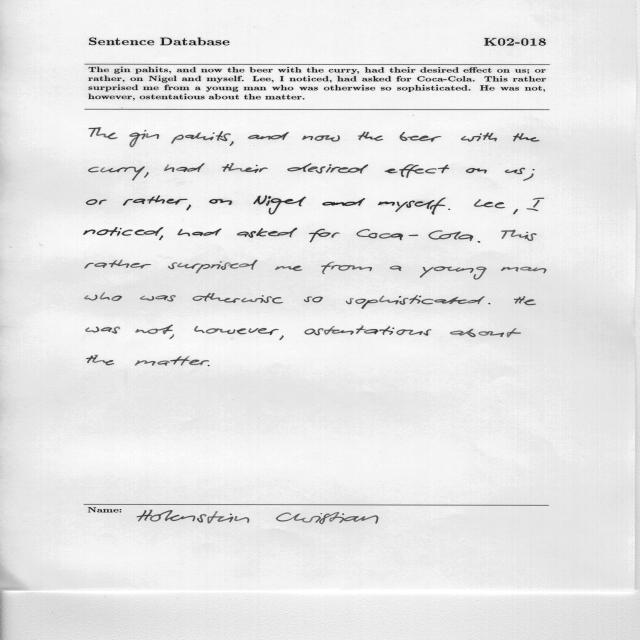word: (346, 295, 485, 309), (304, 325, 432, 336), (356, 229, 473, 241), (168, 260, 258, 273), (378, 198, 446, 215), (253, 196, 306, 215), (420, 266, 487, 280), (193, 293, 283, 303), (385, 164, 449, 178), (287, 163, 368, 174), (88, 166, 145, 181), (171, 131, 231, 144), (194, 326, 279, 335), (135, 356, 209, 366), (84, 227, 164, 236), (123, 196, 188, 206), (450, 328, 521, 337), (321, 262, 372, 274), (237, 228, 297, 238), (85, 260, 151, 269), (130, 130, 160, 147), (222, 163, 268, 173), (400, 132, 442, 142), (309, 229, 340, 242), (501, 230, 537, 241), (164, 163, 205, 172), (178, 229, 222, 237), (322, 198, 365, 206), (135, 325, 173, 334), (85, 292, 122, 301), (248, 132, 289, 140), (461, 133, 497, 142), (89, 128, 117, 139), (474, 200, 505, 209), (501, 267, 546, 273), (87, 356, 114, 366), (302, 135, 340, 142), (140, 295, 176, 302), (358, 131, 383, 141), (513, 133, 540, 142), (86, 327, 120, 334), (527, 198, 545, 211), (514, 296, 536, 305), (523, 169, 535, 181), (209, 199, 232, 205), (275, 266, 302, 271), (466, 168, 487, 174), (505, 168, 525, 174), (87, 199, 107, 205), (304, 297, 323, 303), (390, 266, 402, 271), (144, 172, 149, 178), (186, 205, 191, 211), (513, 209, 518, 214), (279, 336, 284, 341), (230, 141, 234, 146), (170, 334, 174, 339), (159, 236, 163, 240), (478, 241, 481, 243), (448, 209, 450, 210), (488, 303, 490, 304), (208, 365, 210, 366)
